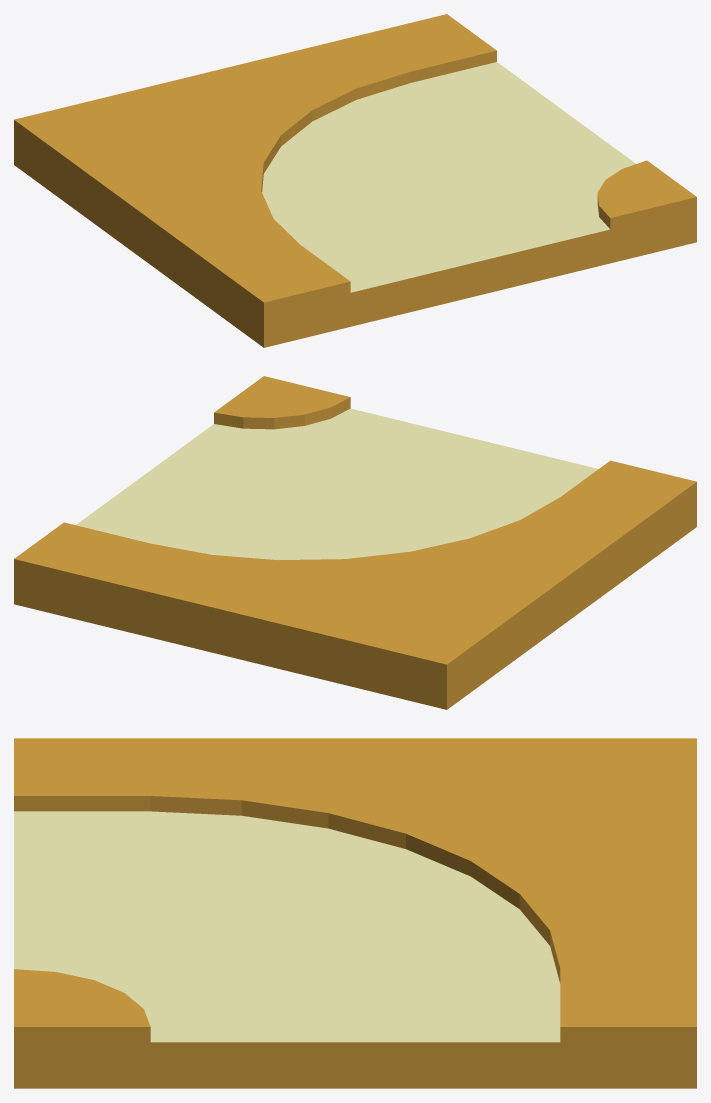
Rendered from curved road.fbx.
The picture shows the model from 3 angles, top to bottom: view 1: azimuth 30°, elevation 25°; view 2: azimuth 150°, elevation 25°; view 3: azimuth 270°, elevation 25°; orthographic projection. The views are drawn at different scales.
Parts seen in each view (by area): view 1: Curved road; view 2: Curved road; view 3: Curved road.
Boxes of the visible parts, x1,y1,x2,y2 form: Curved road: [14, 14, 696, 347]; Curved road: [14, 376, 696, 709]; Curved road: [14, 738, 696, 1088].
Size of the model in its own units: 200 by 20 by 200.
